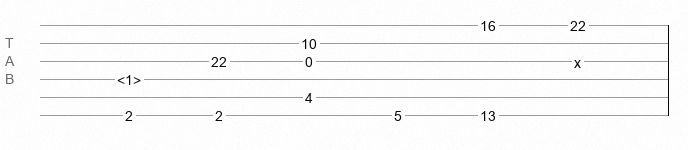0: (305, 54, 313, 64)
10: (301, 36, 317, 46)
13: (480, 108, 496, 118)
16: (480, 18, 496, 28)
2: (125, 108, 133, 118), (215, 108, 223, 118)
22: (211, 54, 227, 64), (570, 18, 586, 28)
4: (305, 90, 313, 100)
5: (394, 108, 402, 118)
harmonic: (117, 72, 141, 82)
x: (574, 55, 581, 63)
